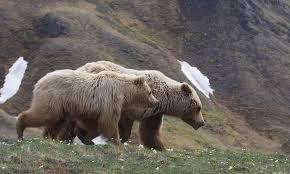bear: (74, 60, 207, 149), (16, 69, 161, 146)
